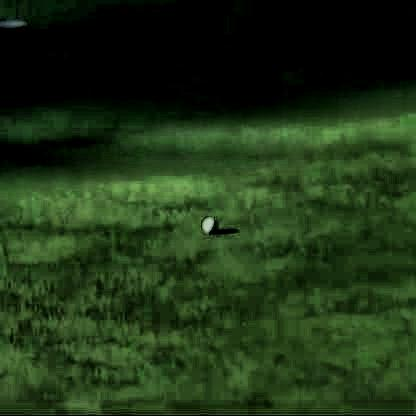golfball: (199, 215, 215, 231)
